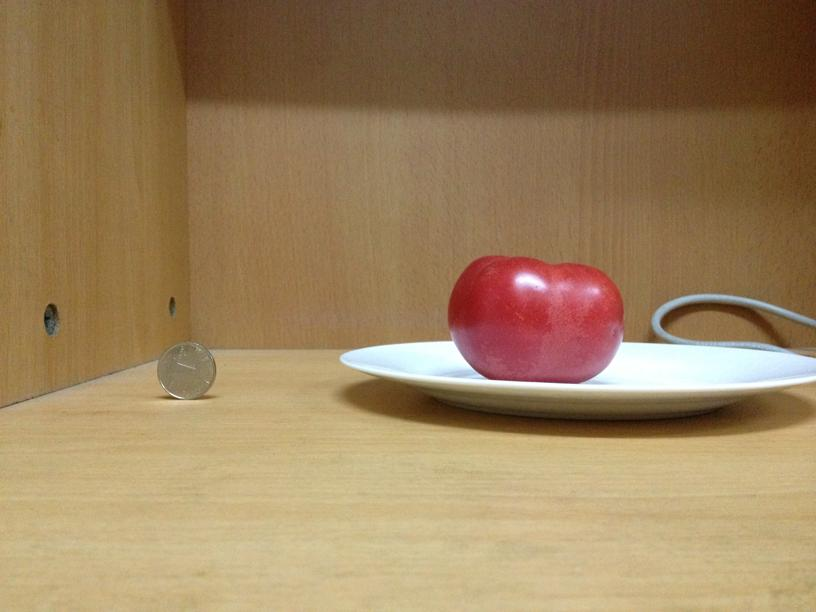coin: (155, 341, 215, 400)
tomato: (437, 257, 626, 383)
